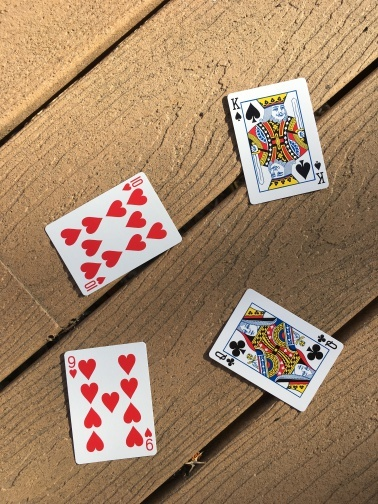king: (227, 81, 326, 194)
nine: (63, 352, 159, 456)
queen: (207, 290, 340, 411)
ten: (42, 174, 174, 294)
